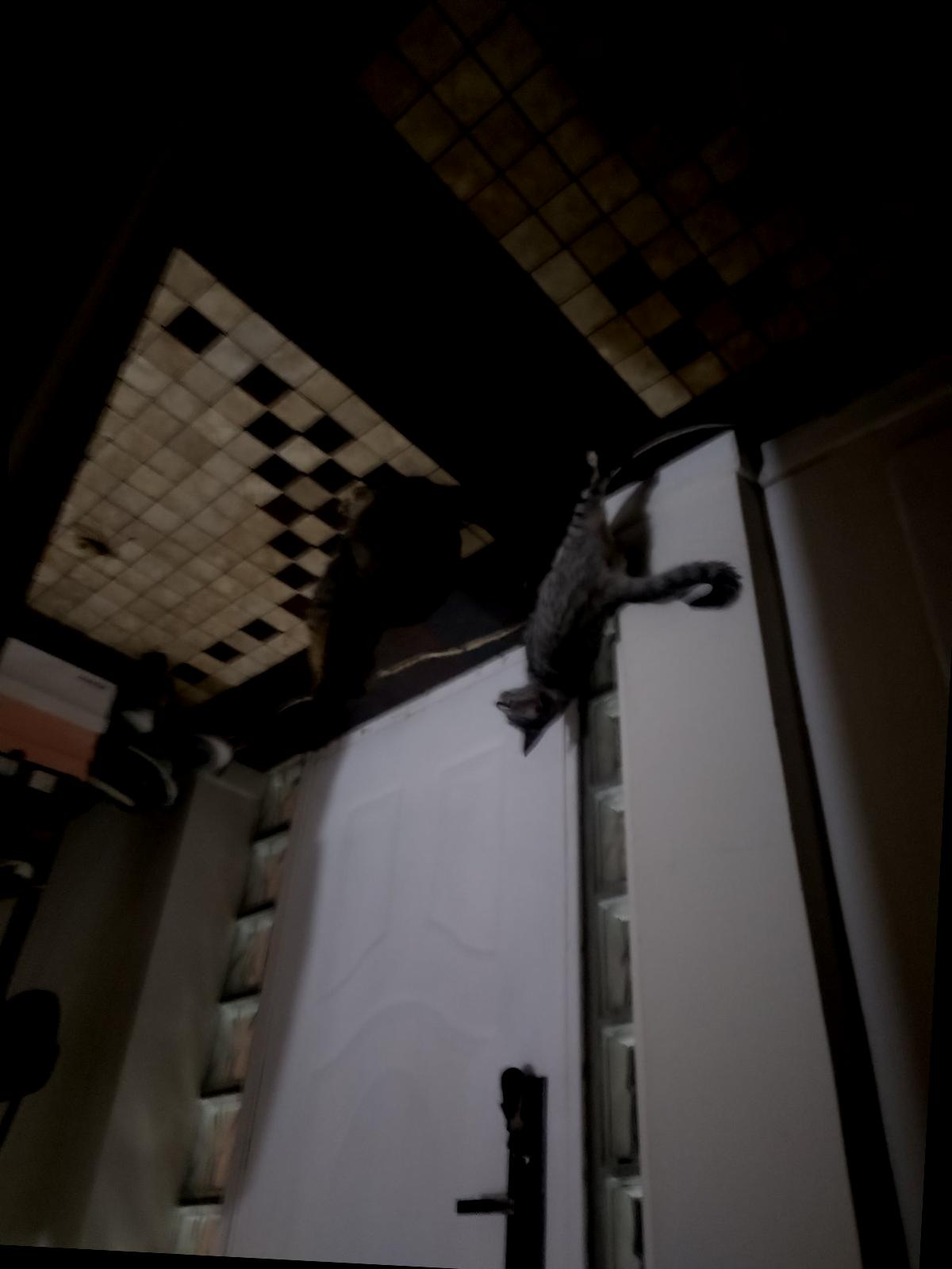macka: (489, 440, 748, 766), (296, 469, 556, 709)
